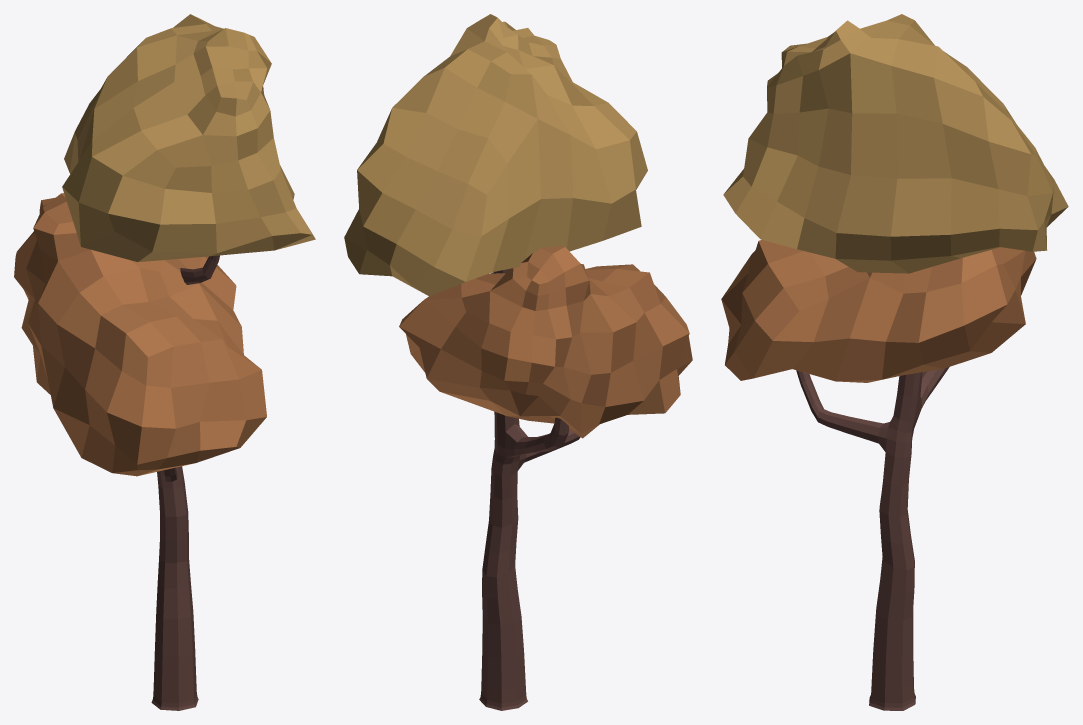
Rendered from CommonTree_Autumn_3.gltf.
The picture shows the model from 3 angles, left to right: view 1: azimuth 30°, elevation 25°; view 2: azimuth 150°, elevation 25°; view 3: azimuth 270°, elevation 25°; orthographic projection. The views are drawn at different scales.
Visible parts, largest first — view 1: CommonTree_Autumn_3; view 2: CommonTree_Autumn_3; view 3: CommonTree_Autumn_3.
Part boxes in pixels (x1,y1,x2,y2): CommonTree_Autumn_3: [14, 14, 315, 710]; CommonTree_Autumn_3: [344, 14, 692, 710]; CommonTree_Autumn_3: [721, 14, 1068, 710].
Bounding box in the file's own units: 1.28 × 3.46 × 1.56.
